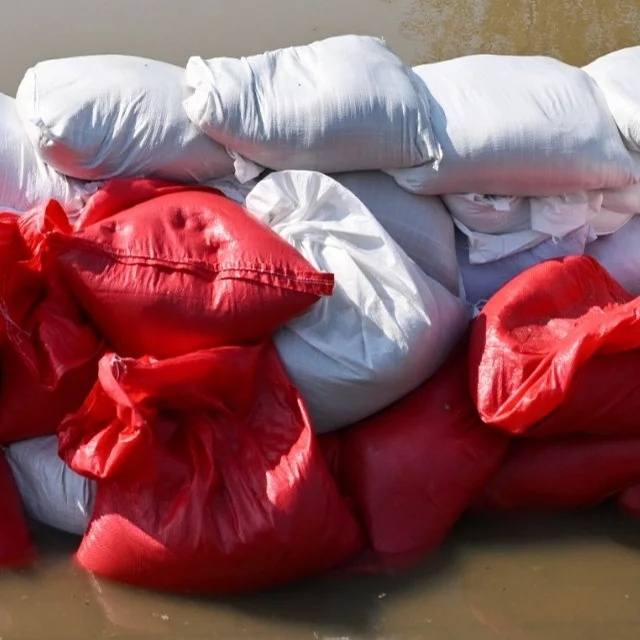sandbag: (61, 349, 362, 589), (249, 172, 465, 431), (65, 180, 334, 357), (342, 348, 507, 575), (392, 55, 640, 197), (185, 36, 439, 171), (470, 260, 640, 437), (15, 55, 231, 181), (0, 201, 105, 440), (333, 173, 462, 297), (0, 93, 99, 217), (482, 440, 640, 509), (456, 233, 589, 306), (7, 438, 94, 536), (584, 46, 640, 150), (590, 221, 640, 291)
